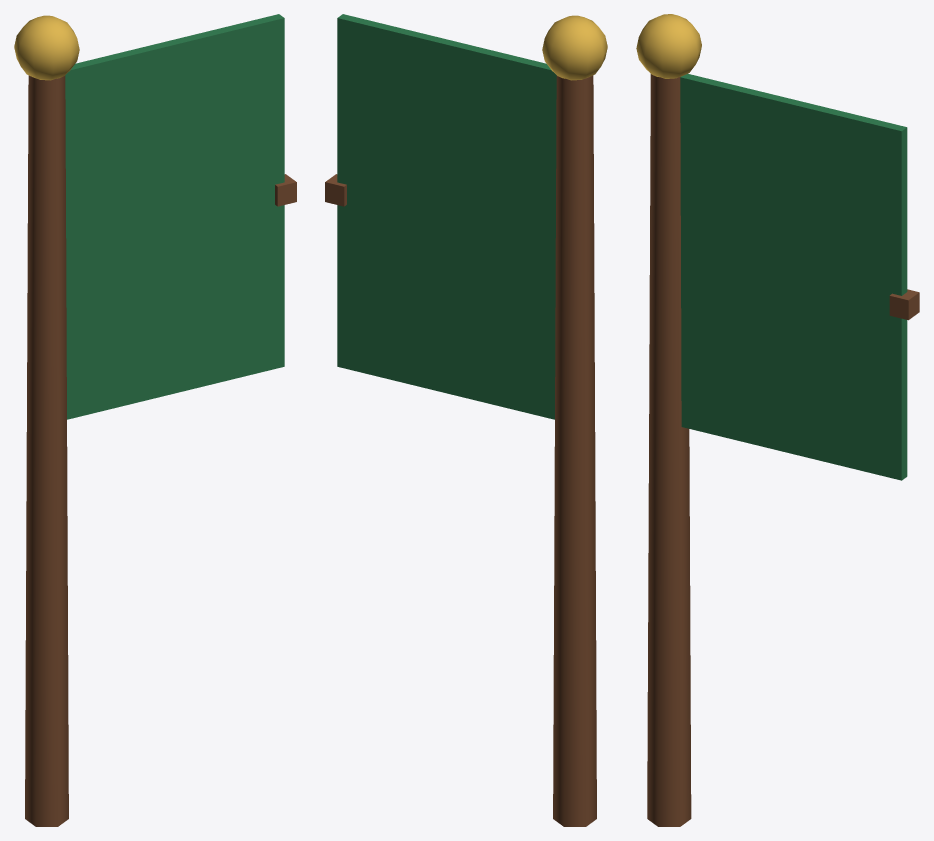
Rendered from banner-green.glb.
3 views of the same model, side by side, from view 1: azimuth 30°, elevation 25°; view 2: azimuth 150°, elevation 25°; view 3: azimuth 330°, elevation 25° (orthographic).
Bounding box in the file's own units: 0.86 × 2.41 × 0.1712.
